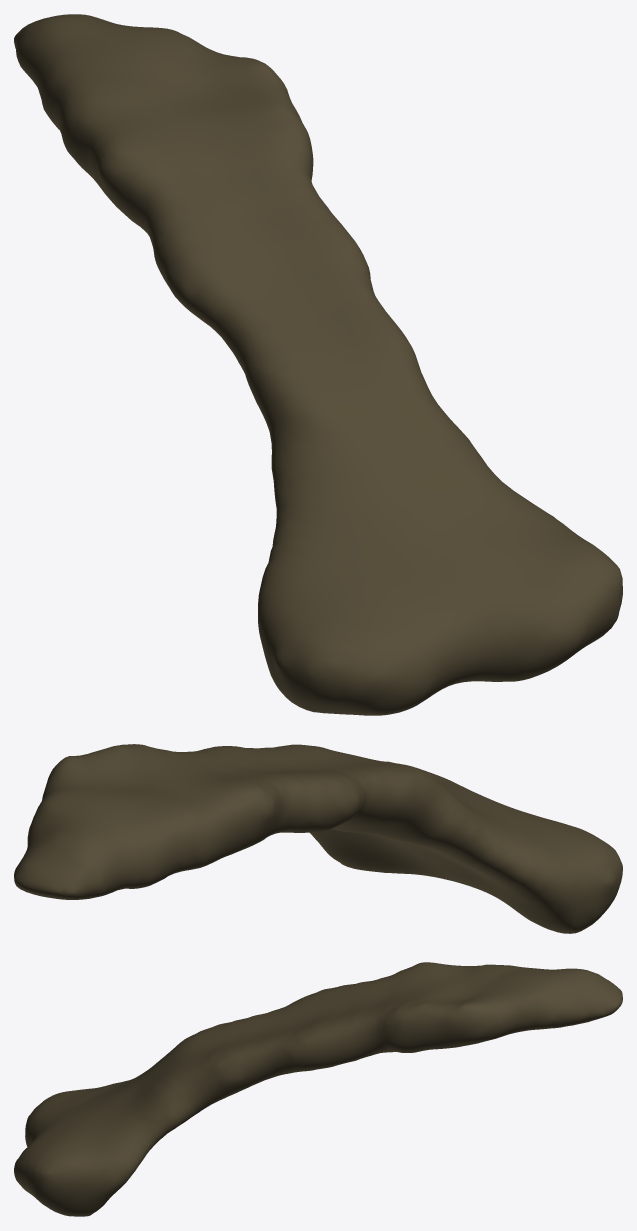
Rendered from segmentations_sternum.obj.
3 views of the same model, one above another, from view 1: azimuth 30°, elevation 25°; view 2: azimuth 150°, elevation 25°; view 3: azimuth 270°, elevation 25° (orthographic). The views are drawn at different scales.
Parts seen in each view (by area): view 1: grp1; view 2: grp1; view 3: grp1.
Boxes of the visible parts, x1,y1,x2,y2 form: grp1: [14, 14, 622, 715]; grp1: [14, 744, 622, 933]; grp1: [14, 962, 622, 1216].
Bounding box in the file's own units: 36.77 × 39.3 × 97.42.
